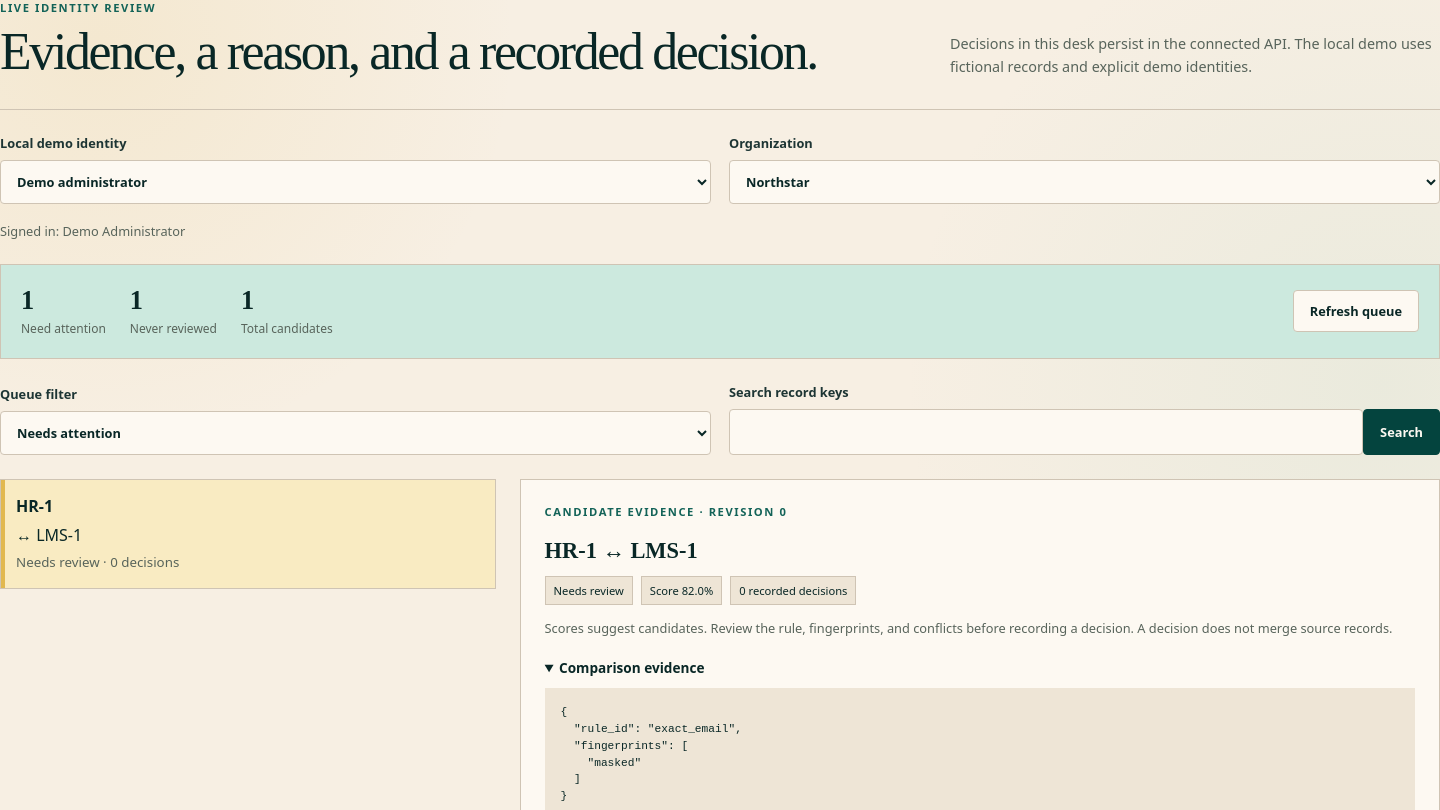
it: isolates organization and viewer sessions
The image size is (1440, 810).
Check: the heading "HR-1 ↔ LMS-1" is shown, box [545,538,698,563]
Select "Other organization" in the dropdown labelled "Organization": point(1084, 182) [729,160,1439,204]
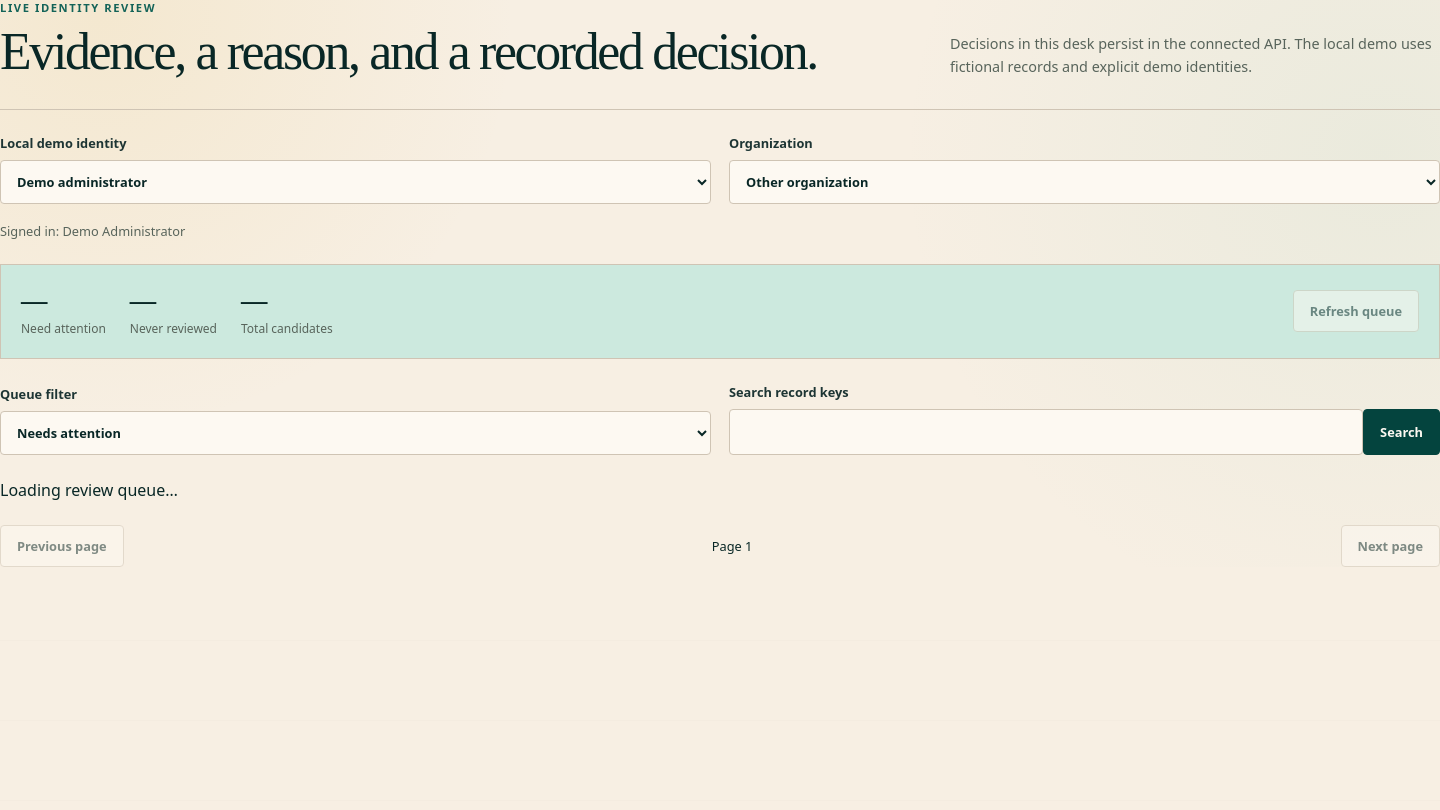
Select "Demo viewer" in the dropdown labelled "Local demo identity": point(356, 182) [0,160,711,204]
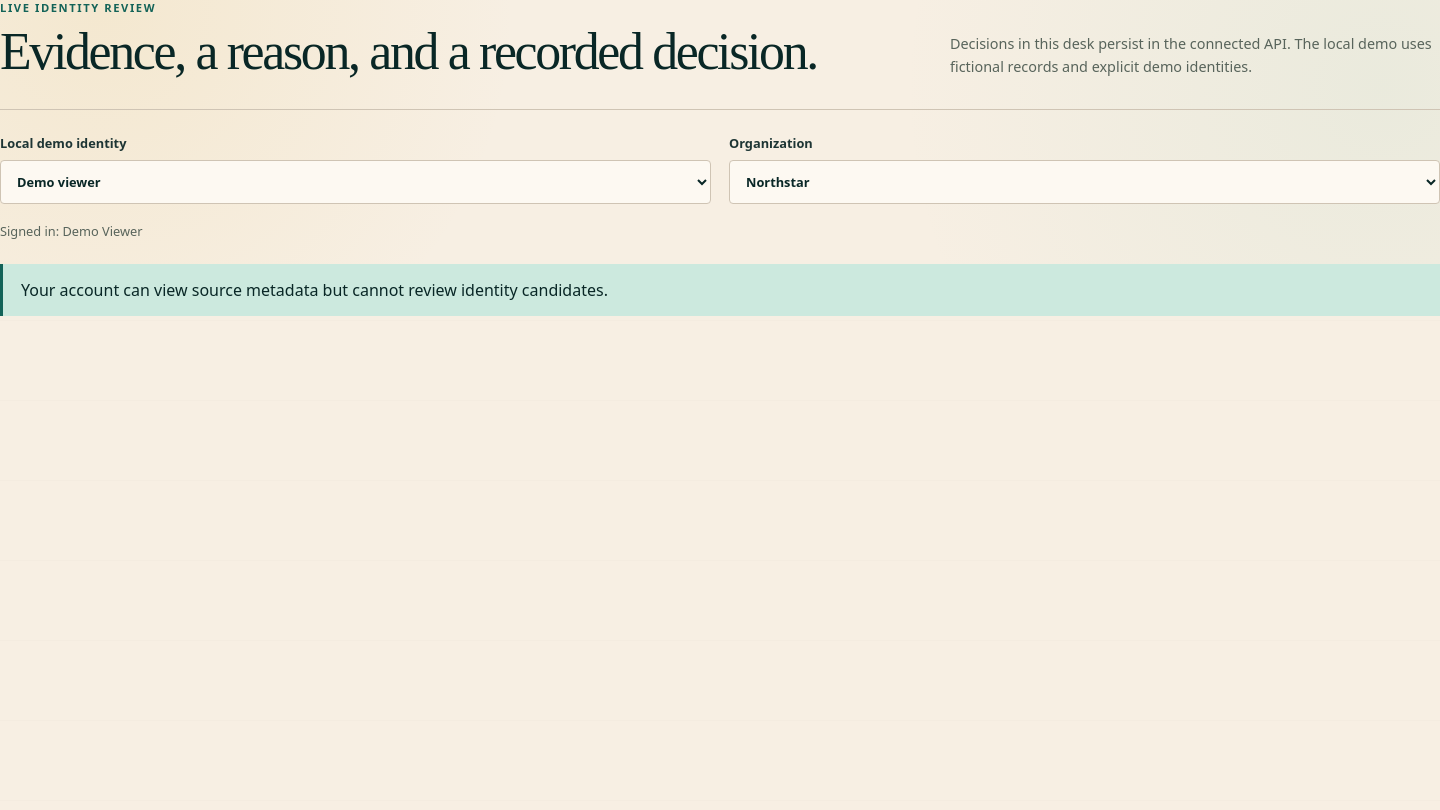
Check: the text "cannot review identity candidates" is shown, box [21,279,608,301]
